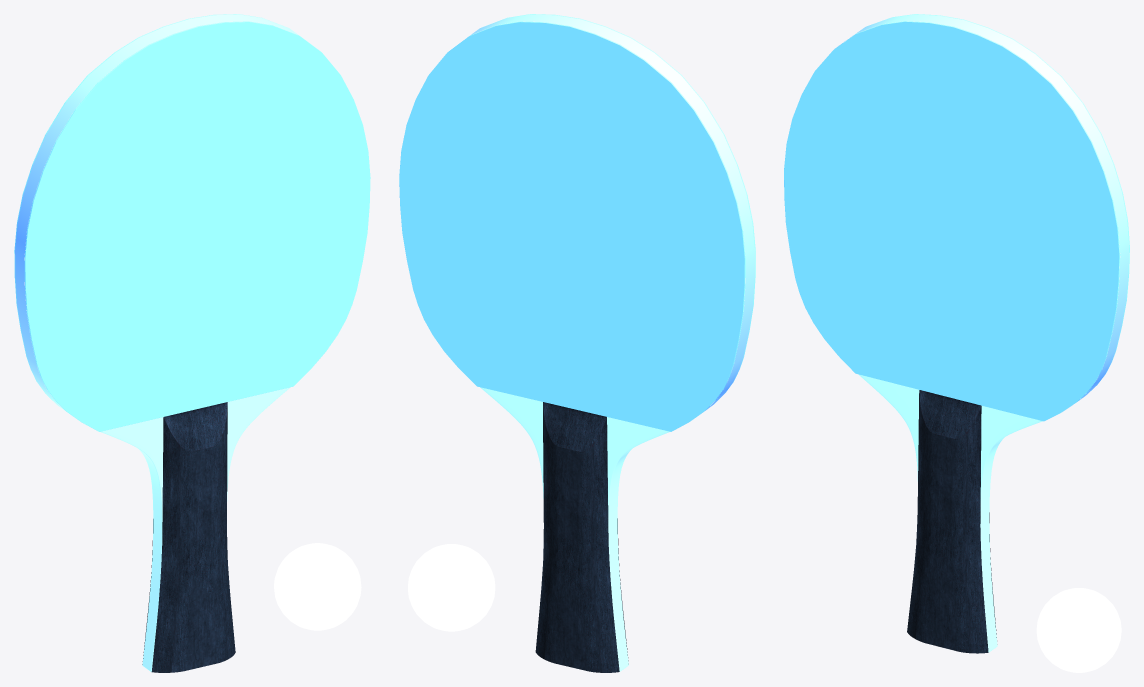
File: materia.glb
3 renders of one model, left to right at view 1: azimuth 30°, elevation 25°; view 2: azimuth 150°, elevation 25°; view 3: azimuth 330°, elevation 25°, orthographic. The views are drawn at different scales.
Parts seen in each view (by area): view 1: raquette.001, ppb; view 2: raquette.001, ppb; view 3: raquette.001, ppb.
Part boxes in pixels (left/top/right/bottom): raquette.001: left=14, top=14, right=370, bottom=672; ppb: left=274, top=543, right=361, bottom=630; raquette.001: left=399, top=14, right=755, bottom=672; ppb: left=408, top=544, right=495, bottom=631; raquette.001: left=784, top=14, right=1129, bottom=653; ppb: left=1036, top=588, right=1121, bottom=672.
Bounding box in the file's own units: 0.3514 × 0.6174 × 0.0773.
Materials: 5 (1 with a texture image).
